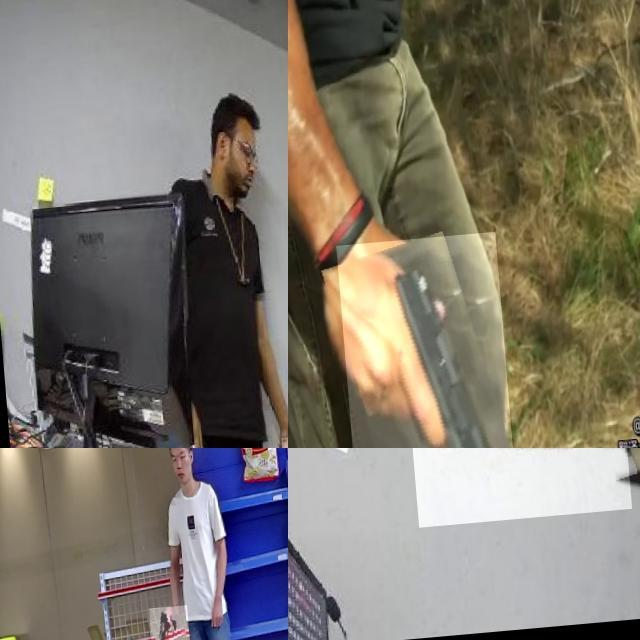-: (397, 448, 622, 555)
gun-knife-thesis - v11 Yolov5 augmented: (330, 239, 510, 448), (144, 612, 186, 640)
